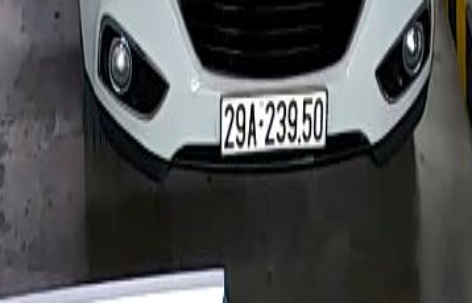plate: (221, 94, 331, 152)
